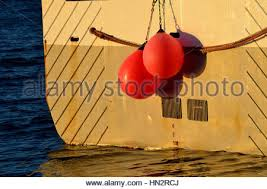buoy: (118, 48, 163, 100), (144, 33, 183, 78)
